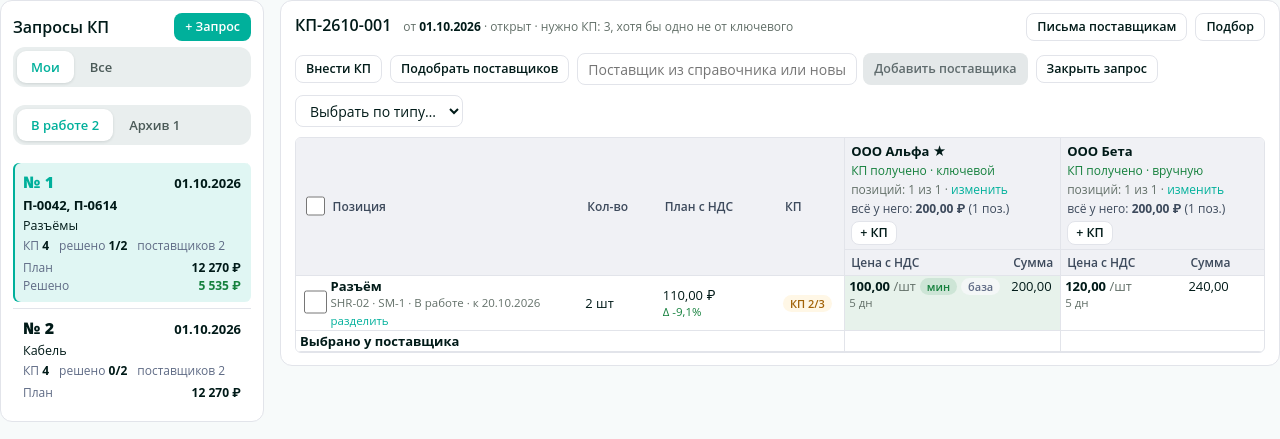
Test case: the card shows projects, «решено N/M» and the sums; the archive is its own list (Витя via the owner 23.10)
The width and height of the screenshot is (1280, 439).
Check: the text "П-0042, П-0614" is shown, box top-left (23, 196), bottom-right (117, 214)
Check: the text "1/2" is shown, box top-left (109, 237), bottom-right (127, 254)
What coordinates should you click on to do the following:
click the tab "Архив 1"
I would click on:
 (155, 125)
Its box is top-left (115, 109), bottom-right (194, 141).
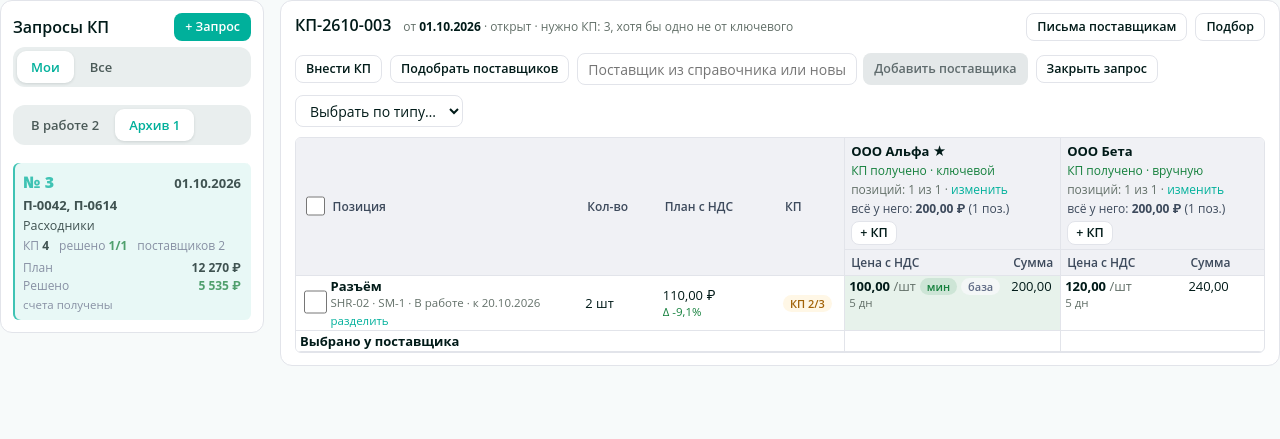
Check: the text "счета получены" is shown, box top-left (23, 297), bottom-right (113, 312)
Check: the button "№ 1" is gone
Check: the heading "КП-2610-003" is shown, box top-left (295, 14), bottom-right (391, 36)
